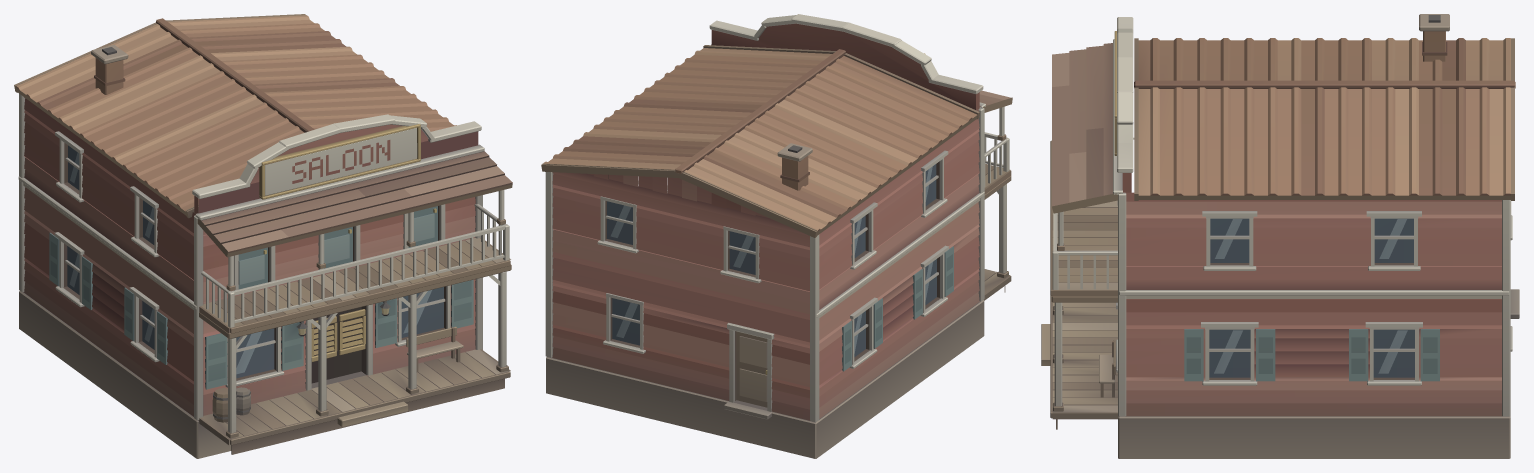
Rendered from house_3.glb.
3 views of the same model, side by side, from view 1: azimuth 30°, elevation 25°; view 2: azimuth 150°, elevation 25°; view 3: azimuth 270°, elevation 25° (orthographic). The views are drawn at different scales.
Bounding box in the file's own units: 8.74 × 8.5 × 11.34.
